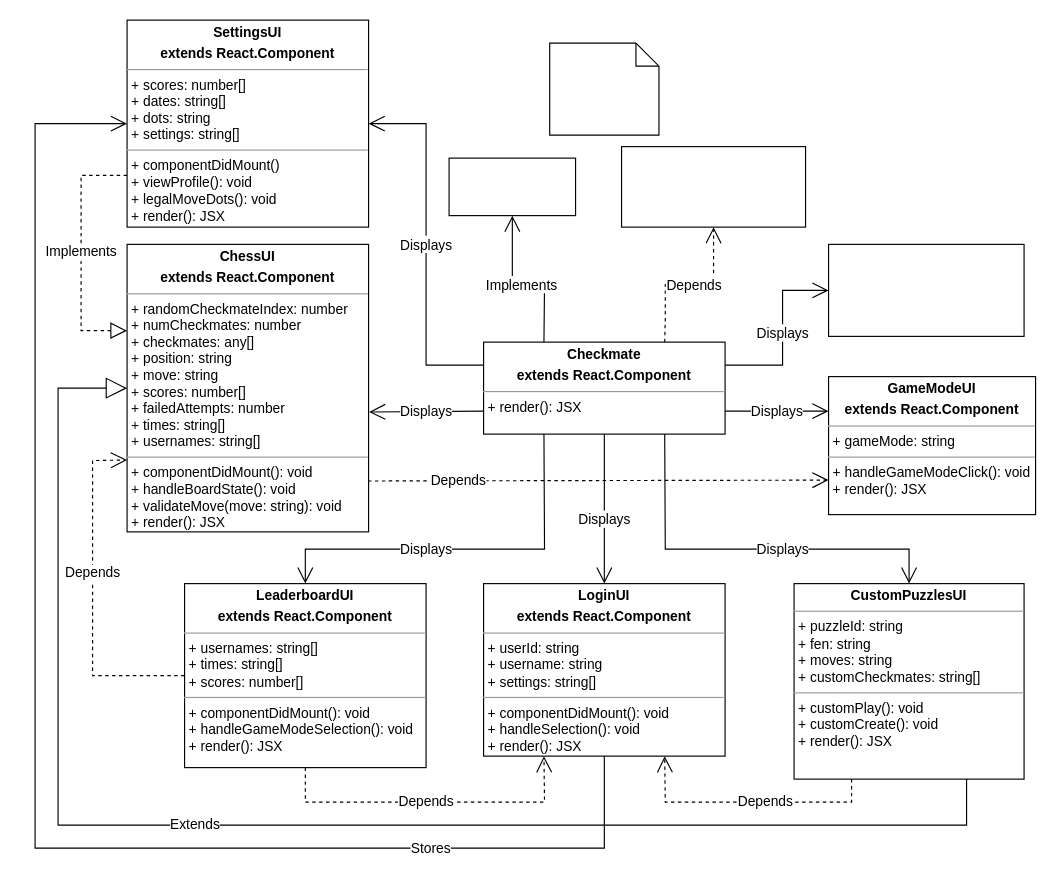
This 1056x884 diagram has some shape labels left out. The shapes that lost their labels are listed below. From the top down, each one's box as (x1, y1, x2, y2) in pixels, then its label:
(549, 42, 659, 135): NOTE: JSX allows us to write HTML in React
(448, 157, 576, 216): <<interface>> index
(620, 145, 806, 227): MainMenuUI extends React.Component + render(): JSX
(827, 243, 1024, 336): HelpTutorialMenuUI extends React.Component + render(): JSX
